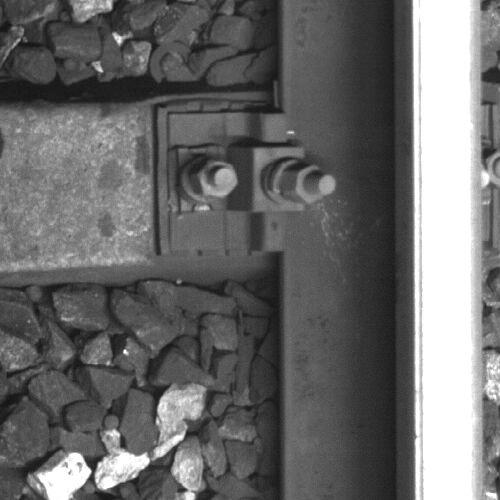kb: (168, 112, 339, 252)
nut: (278, 160, 336, 206), (186, 157, 238, 201)
rail: (411, 1, 482, 500)
tie_concr: (1, 107, 275, 269)
